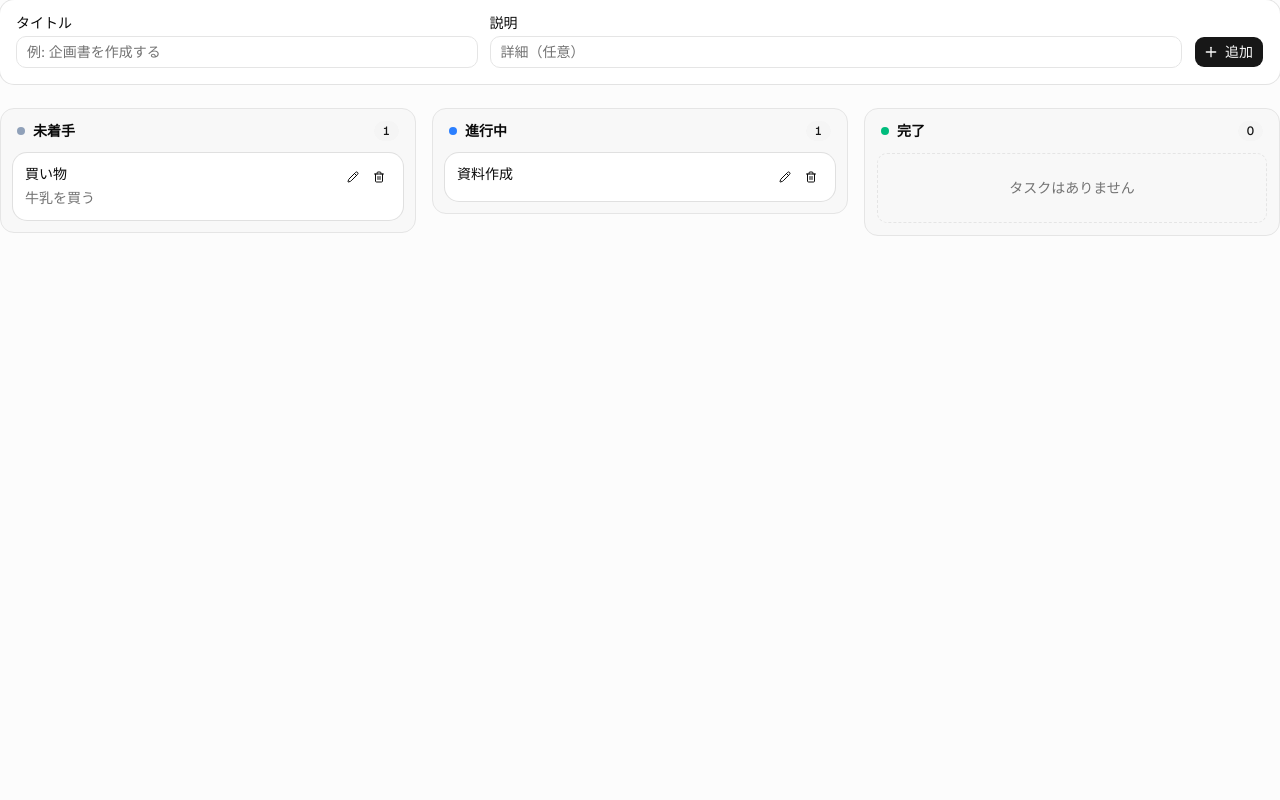
削除 › 確認ダイアログで削除すると応答を待たずにタスクが消える
Click the button named "削除" in the row of "買い物" at x=379, y=177, box [367,165,391,189]
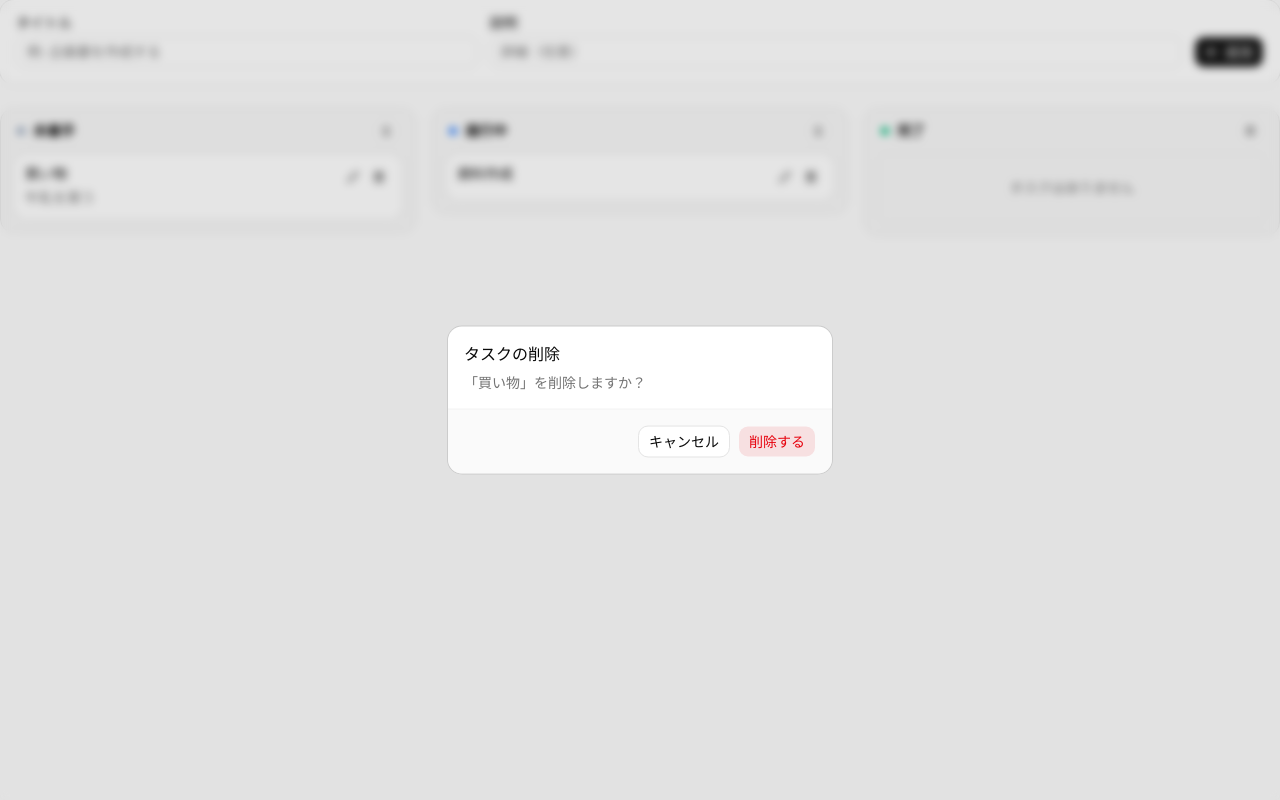
Click the button "削除する" at x=777, y=442, box [738,426,816,458]
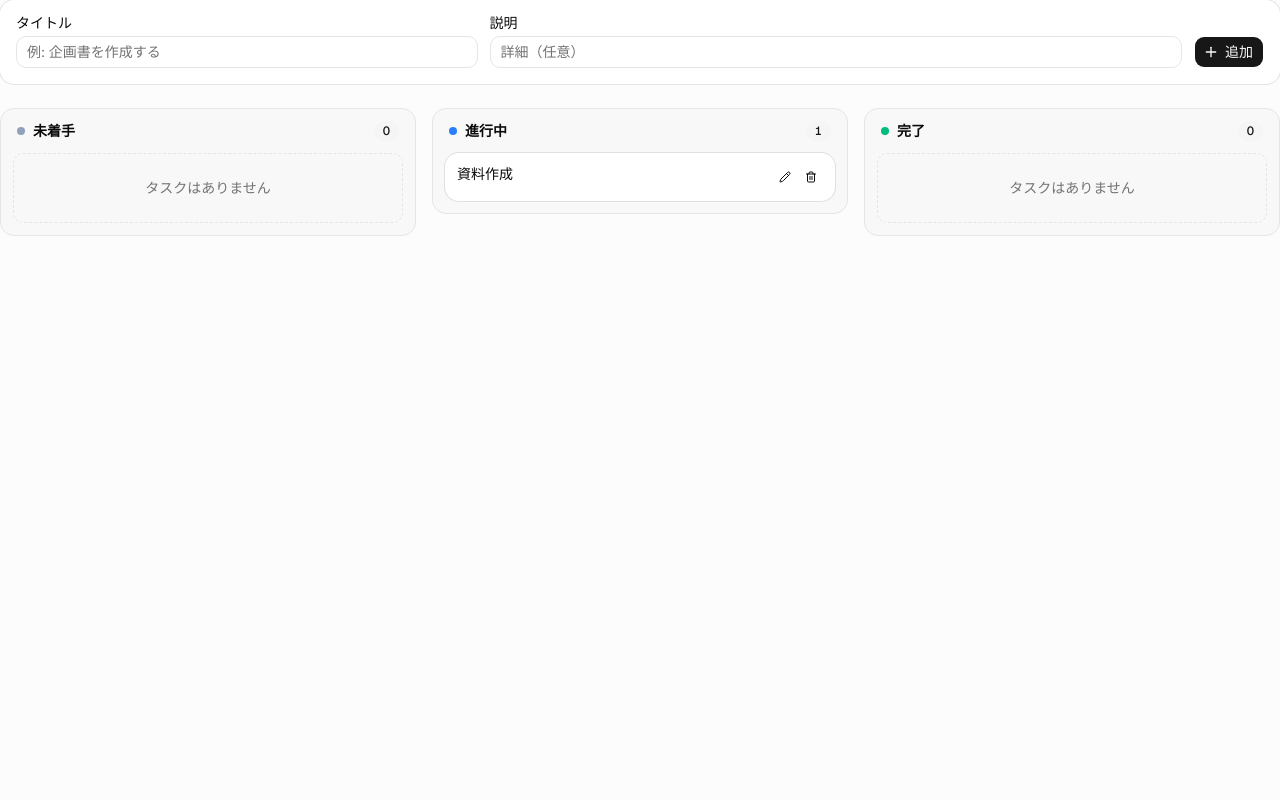
Check: the element "資料作成" is shown, box [445,153,835,201]
Check: the text "買い物" is gone
Check: the dialog is gone
